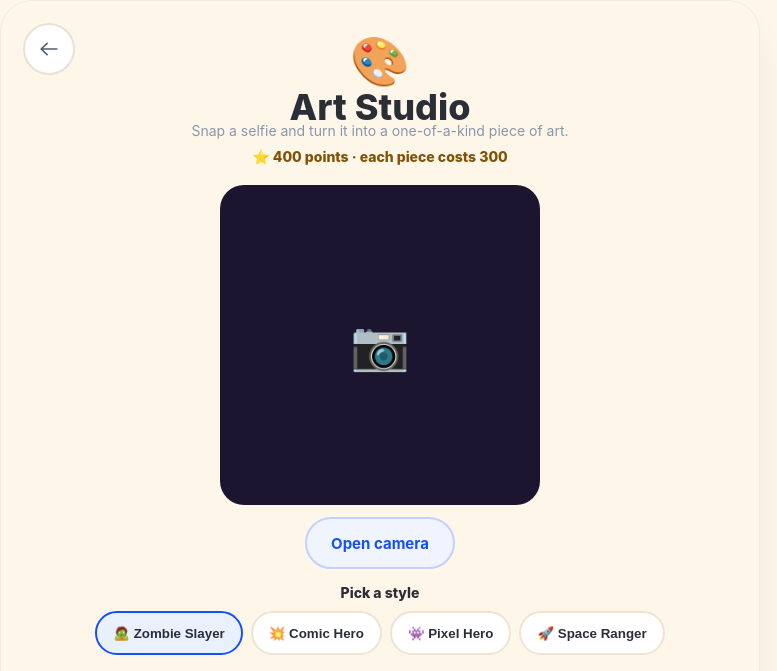
Test: ArtStudio › explains a camera that is turned off
Click the button "Open camera": (380, 543) [305,517,455,569]
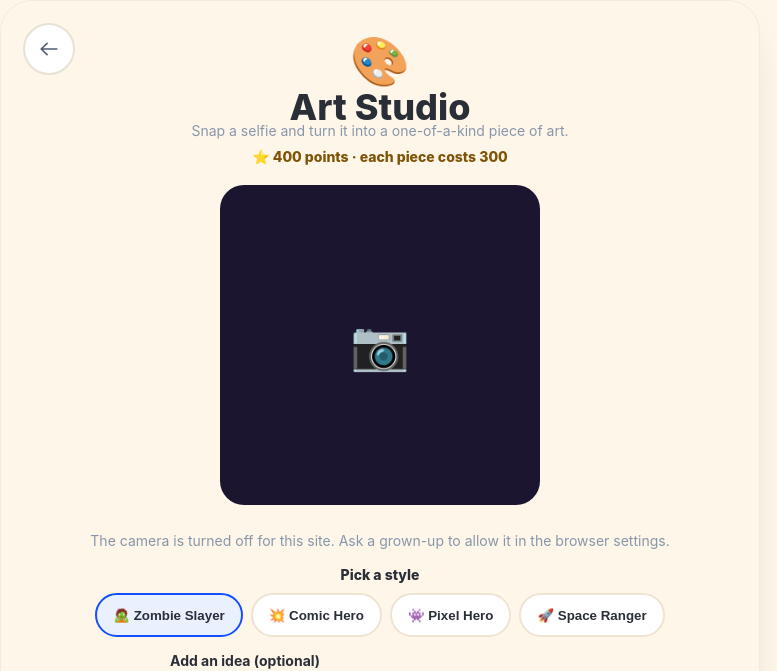
Expected: the text "camera is turned off" is shown, [90,532,670,549]
